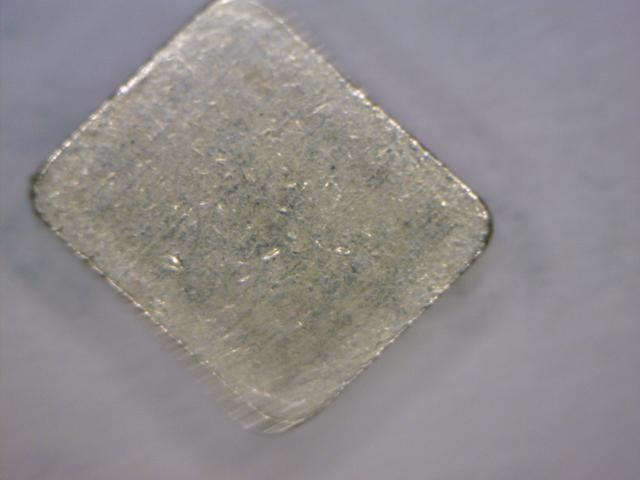ok: (22, 3, 507, 432)
